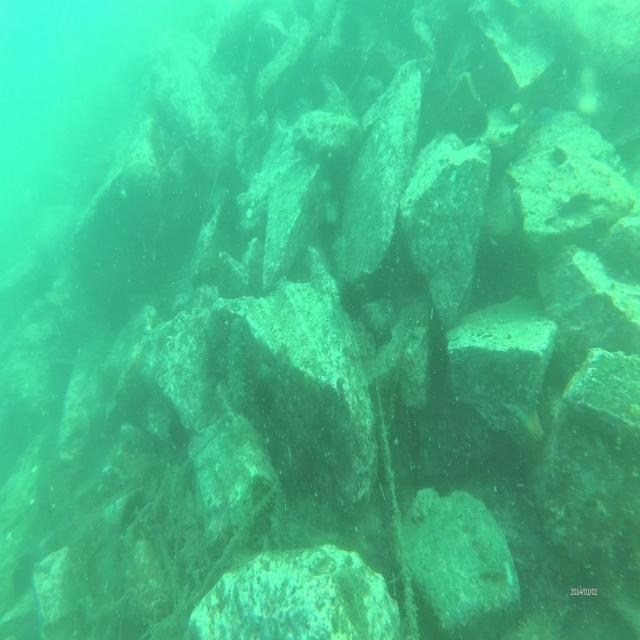echinus: (512, 603, 560, 640), (400, 290, 437, 333), (254, 372, 278, 422)
holothurian: (223, 317, 247, 410), (331, 102, 355, 121)
starfish: (514, 400, 546, 455)
